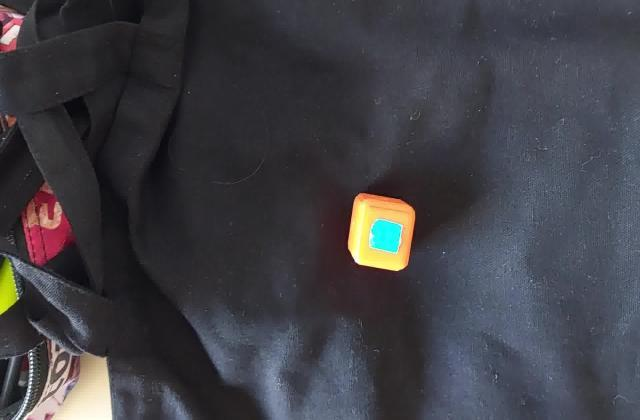blue: (378, 224, 397, 250)
sticker: (345, 192, 416, 274)
